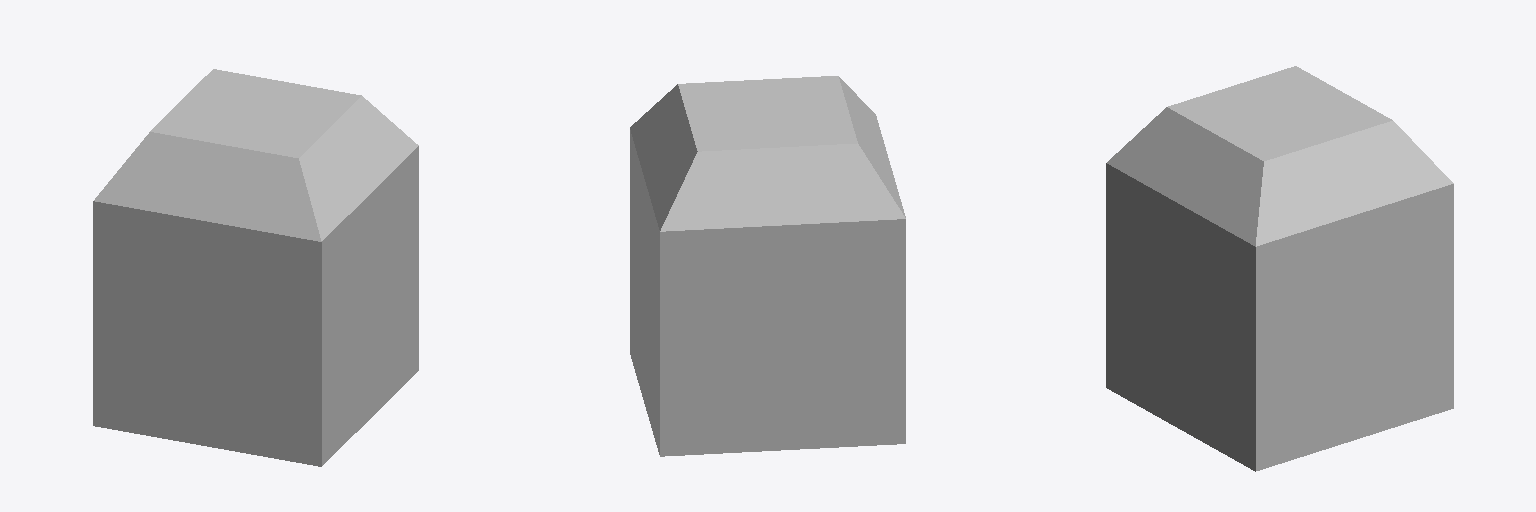
The model's file is TestCubeSPIN1.obj.
3 renders of one model, left to right at view 1: azimuth 30°, elevation 25°; view 2: azimuth 150°, elevation 25°; view 3: azimuth 270°, elevation 25°, orthographic.
Parts seen in each view (by area): view 1: Cube.001; view 2: Cube.001; view 3: Cube.001.
Boxes of the visible parts, x1=… form: Cube.001: x1=93, y1=69, x2=418, y2=466; Cube.001: x1=630, y1=76, x2=905, y2=456; Cube.001: x1=1106, y1=66, x2=1453, y2=471.
Bounding box in the file's own units: 2.8 × 2.53 × 2.8.